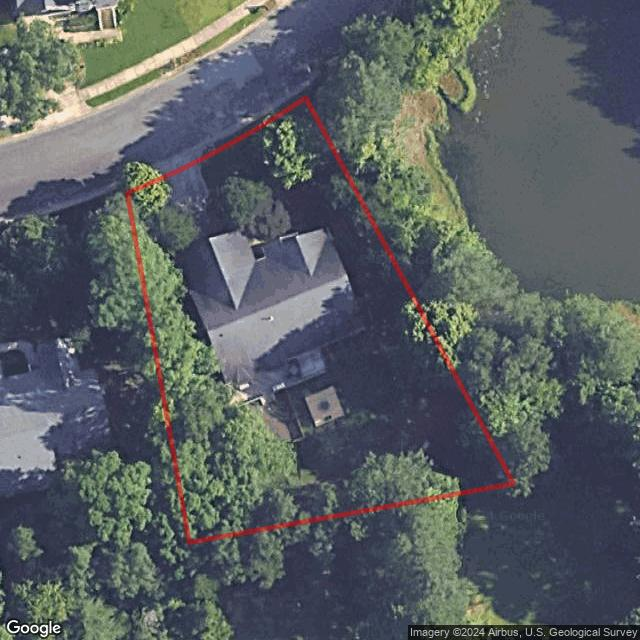Driveway: (159, 164, 234, 251)
Extra-Driveway: (157, 150, 205, 180)
Extra-Lawn: (201, 89, 308, 161), (124, 170, 163, 195)
House: (180, 226, 368, 385)
Lawn: (127, 97, 514, 545)
Other: (229, 348, 330, 444), (303, 386, 348, 430)
